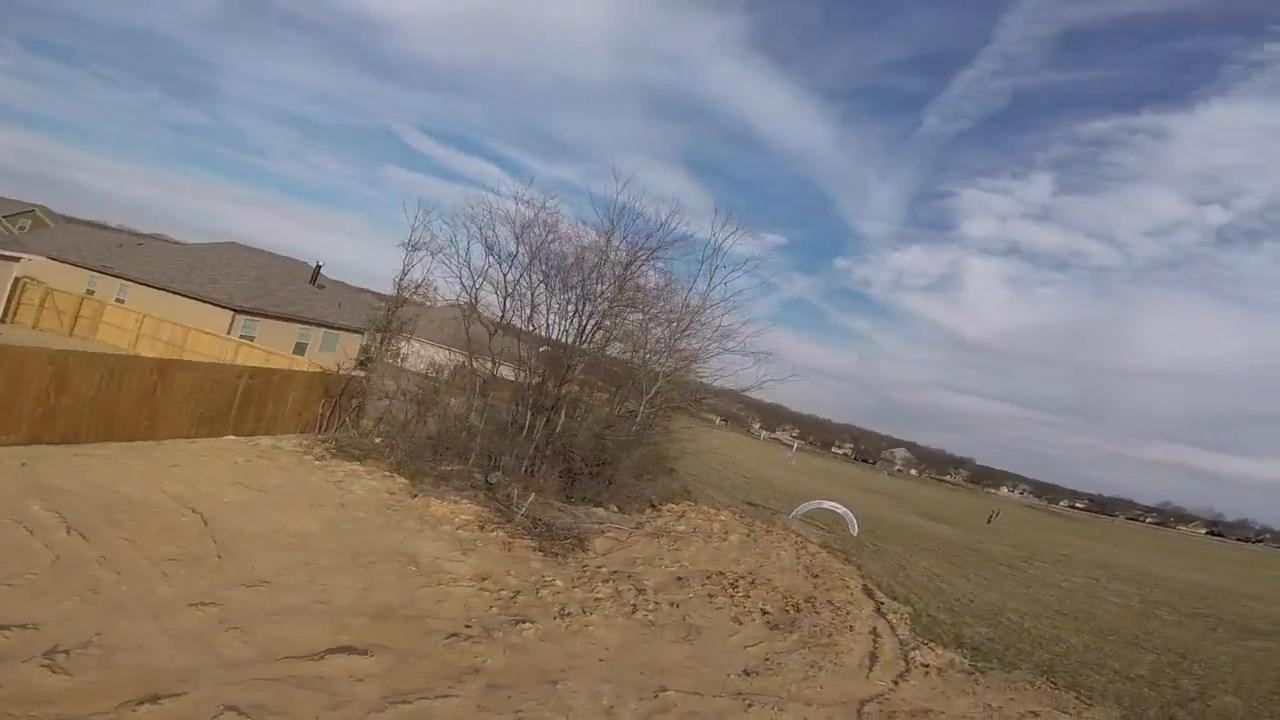gate: (789, 497, 860, 546)
